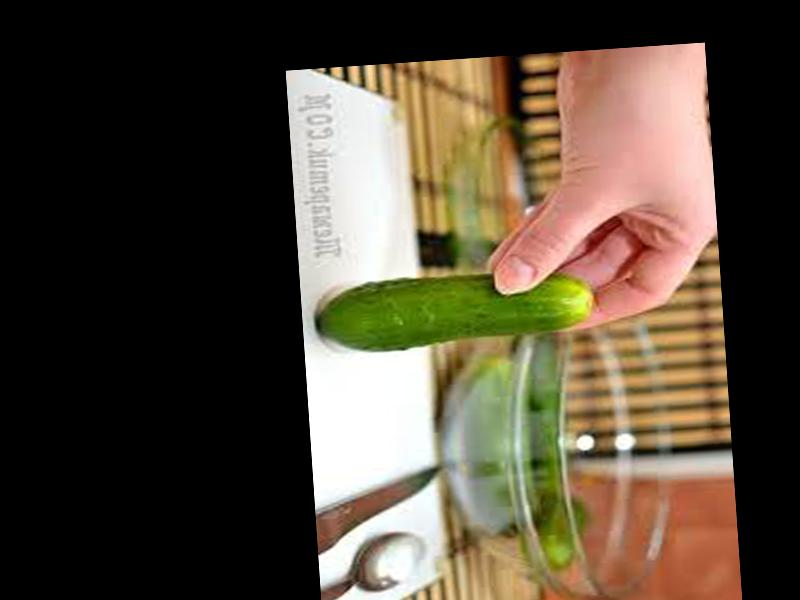Cucumber: (316, 266, 595, 355)
